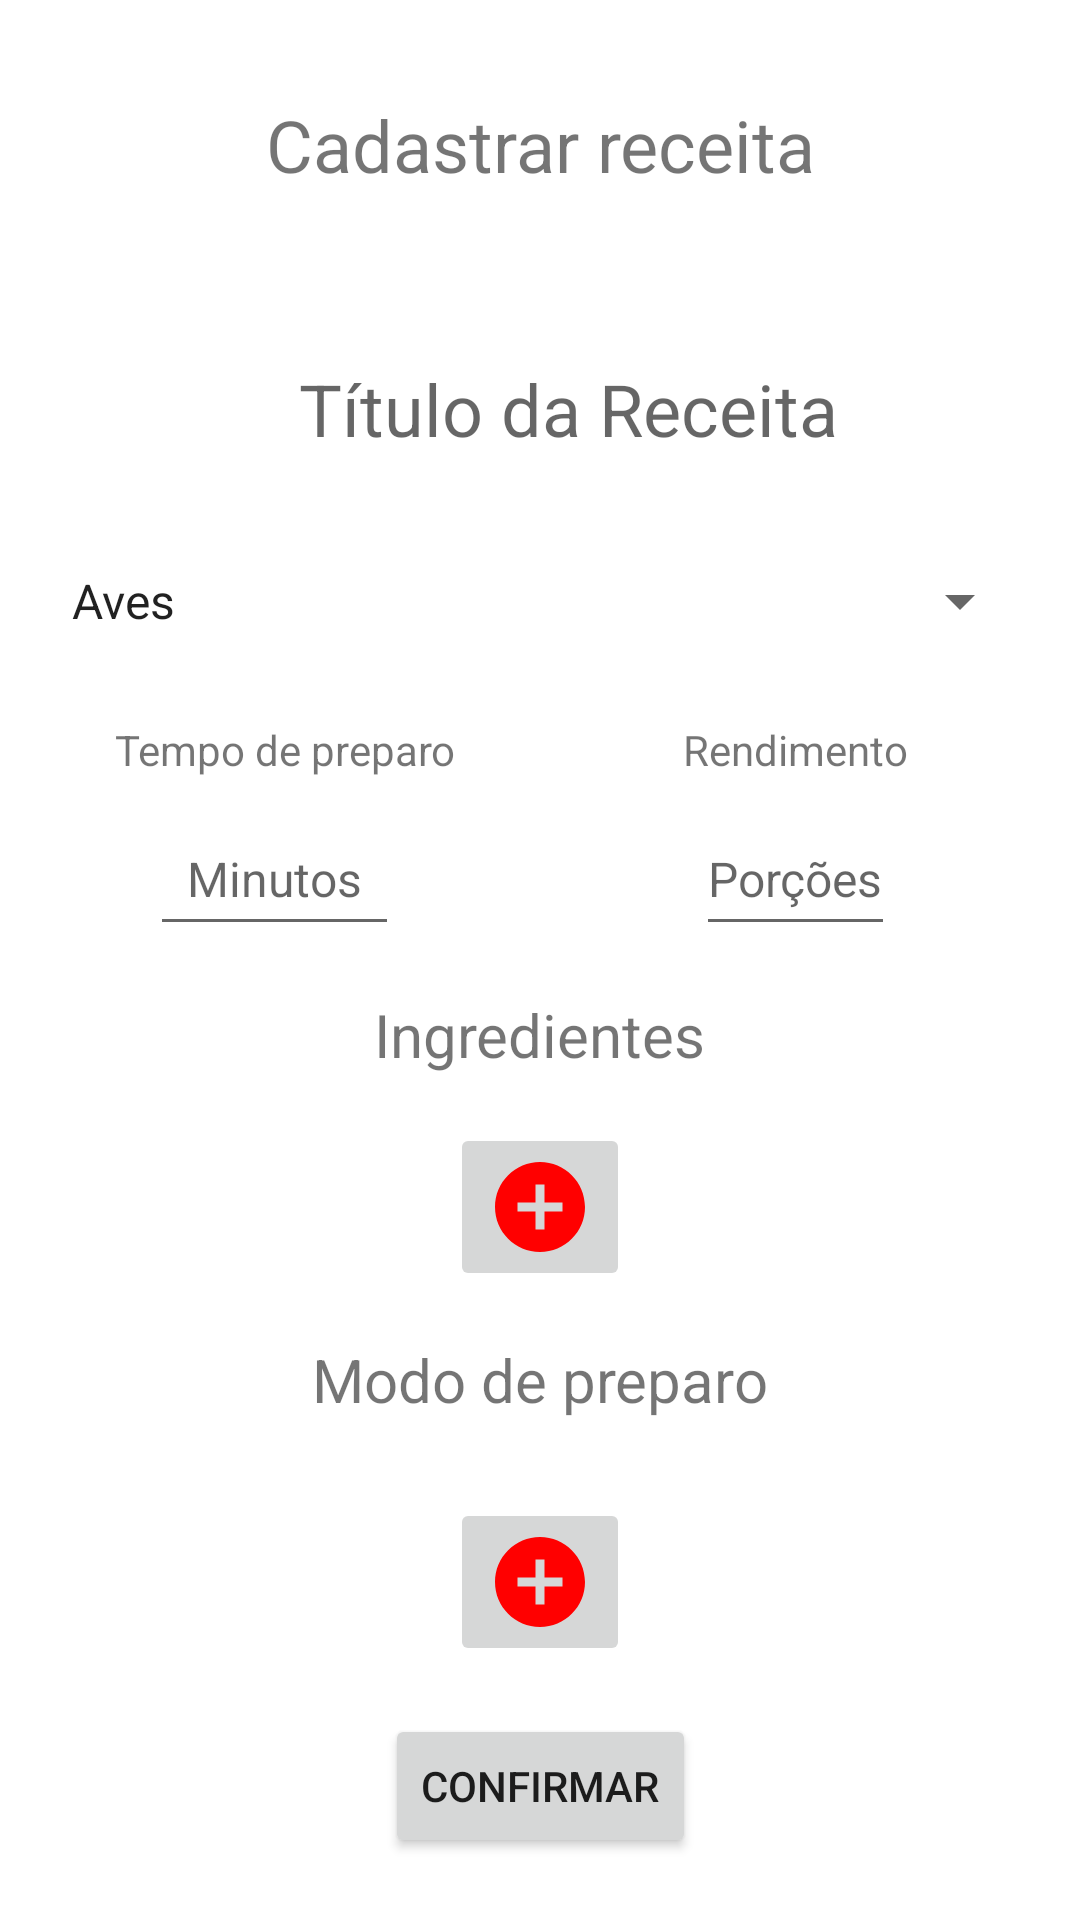

Where to tap for icons on this 1080 x 1920 app screen, as (x=x, y=y):
add: (x=540, y=1207), (x=540, y=1582)
